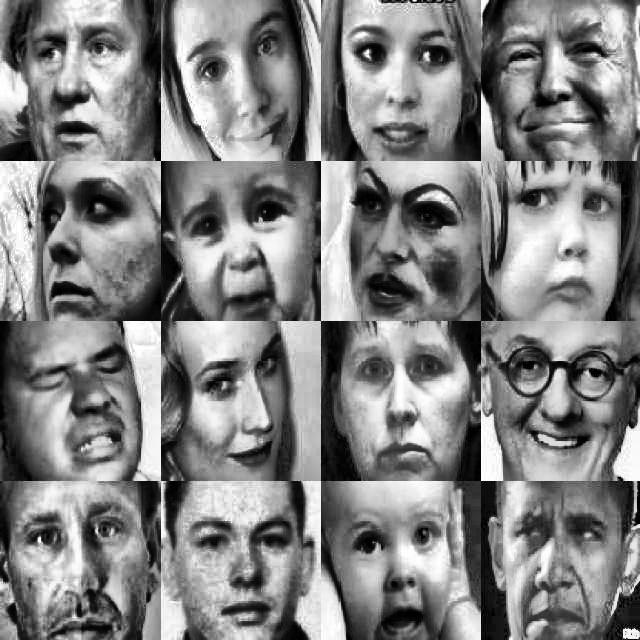angry: (494, 486, 631, 640), (491, 174, 625, 320), (340, 172, 472, 314), (14, 336, 142, 474)
fear: (326, 486, 470, 640), (26, 167, 163, 324), (343, 339, 467, 476)
happy: (493, 5, 637, 167), (337, 0, 475, 157), (170, 2, 301, 156), (492, 333, 628, 471), (166, 337, 297, 473)
neutral: (4, 1, 152, 153), (165, 498, 301, 640), (17, 497, 145, 640)
sad: (168, 161, 314, 317)
